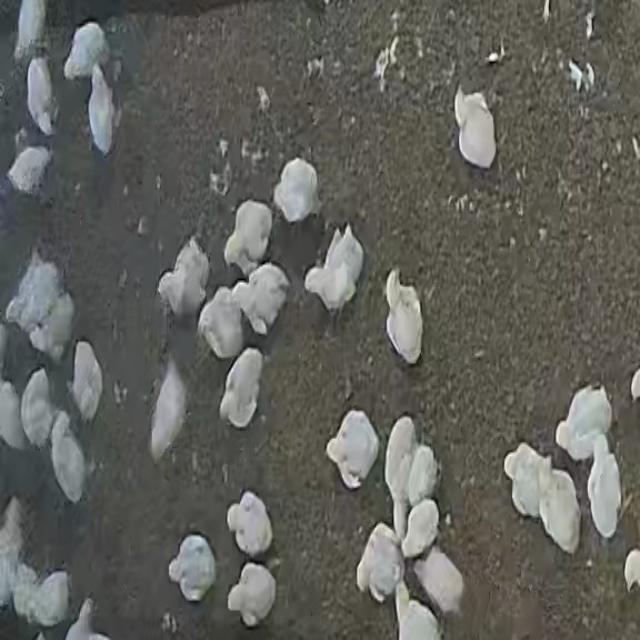chicken: (384, 418, 437, 538), (304, 223, 364, 316), (9, 250, 60, 341), (324, 408, 378, 488), (231, 263, 291, 335), (554, 388, 612, 462), (157, 237, 208, 320), (536, 462, 580, 554), (385, 269, 428, 363), (411, 544, 464, 618), (355, 524, 404, 604), (150, 360, 188, 461), (223, 200, 273, 274), (586, 436, 622, 538), (219, 349, 264, 429), (501, 444, 548, 519), (454, 86, 496, 168), (49, 412, 87, 502), (13, 568, 70, 628), (197, 287, 245, 357), (226, 561, 276, 627), (168, 534, 216, 602), (30, 287, 74, 361), (225, 491, 272, 560), (20, 368, 59, 448), (0, 499, 28, 610), (273, 158, 319, 222), (86, 63, 118, 155), (63, 21, 109, 81), (70, 342, 103, 422), (394, 583, 443, 636), (26, 57, 58, 135), (6, 145, 53, 196), (0, 378, 29, 452), (59, 598, 112, 638), (14, 1, 47, 64)
